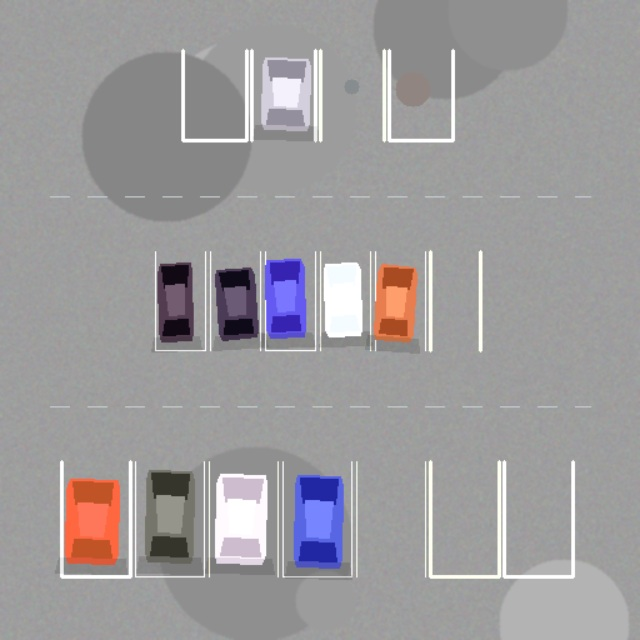space-empty: (356, 461, 425, 576), (430, 461, 499, 576), (504, 461, 572, 576), (320, 50, 384, 140), (389, 50, 453, 140), (183, 50, 246, 140), (430, 251, 480, 350)
space-occupied: (61, 461, 130, 576), (135, 461, 204, 576), (209, 461, 278, 576), (282, 461, 351, 576), (251, 50, 315, 140), (155, 251, 205, 350), (210, 251, 260, 350), (265, 251, 315, 350), (320, 251, 370, 350), (375, 251, 425, 350)
